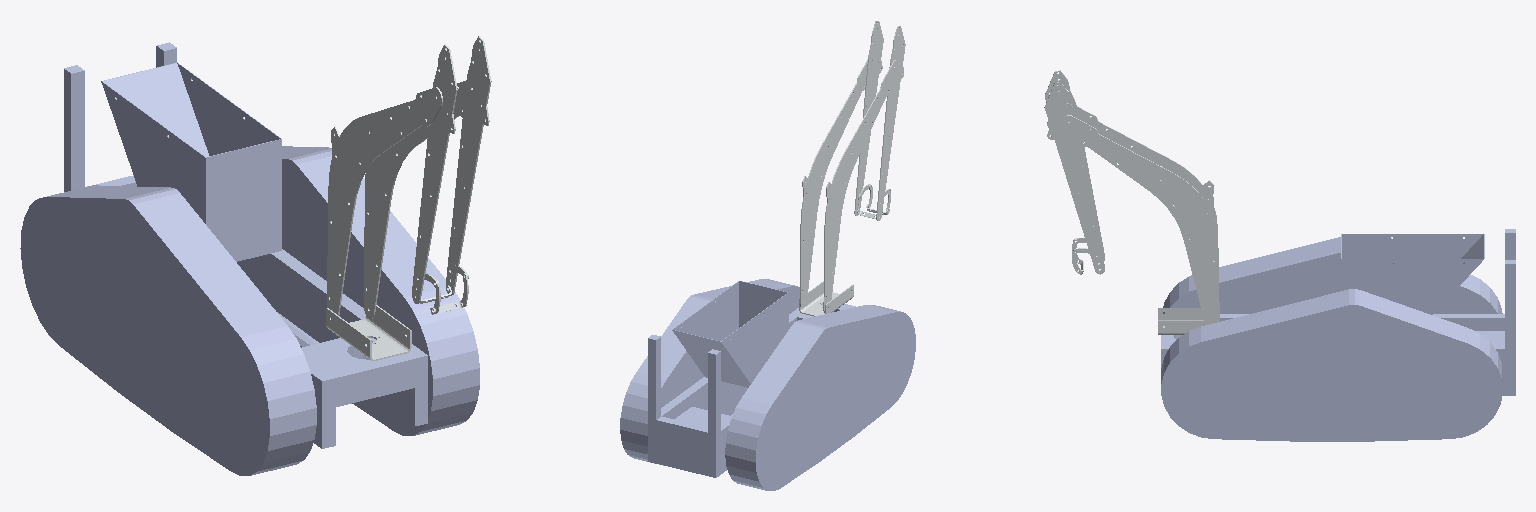
The robot description file, URDF, robot "urdf_files":
<?xml version="1.0" encoding="utf-8"?>
<!-- This URDF was automatically created by SolidWorks to URDF Exporter! Originally created by [author] ([email redacted]) 
     Commit Version: 1.5.1-0-g916b5db  Build Version: 1.5.7152.31018
     For more information, please see http://wiki.ros.org/sw_urdf_exporter -->
<robot
  name="urdf_files">
  <link
    name="base_link">
    <inertial>
      <origin
        xyz="-0.000245405735387999 0.176708927673057 0.00200662816430458"
        rpy="0 0 0" />
      <mass
        value="73.1987225940831" />
      <inertia
        ixx="5.44844381853453"
        ixy="0.000530588416338094"
        ixz="0.00684956990429821"
        iyy="4.94620833738639"
        iyz="0.0418907255499782"
        izz="0.794151271490352" />
    </inertial>
    <visual>
      <origin
        xyz="0 0 0"
        rpy="0 0 0" />
      <geometry>
        <mesh
          filename="package://urdf_files/meshes/base_link.STL" />
      </geometry>
      <material
        name="">
        <color
          rgba="0.792156862745098 0.819607843137255 0.933333333333333 1" />
      </material>
    </visual>
    <collision>
      <origin
        xyz="0 0 0"
        rpy="0 0 0" />
      <geometry>
        <mesh
          filename="package://urdf_files/meshes/base_link.STL" />
      </geometry>
    </collision>
  </link>
  <link
    name="Turntable_Link">
    <inertial>
      <origin
        xyz="3.91763135820788E-09 0.205567132192906 -0.00190110285770567"
        rpy="0 0 0" />
      <mass
        value="0.227999436482662" />
      <inertia
        ixx="0.000570763969480878"
        ixy="1.48699454009952E-11"
        ixz="2.69155197840914E-12"
        iyy="0.000802639067555957"
        iyz="5.46441695495813E-08"
        izz="0.000323934062677162" />
    </inertial>
    <visual>
      <origin
        xyz="0 0 0"
        rpy="0 0 0" />
      <geometry>
        <mesh
          filename="package://urdf_files/meshes/Turntable_Link.STL" />
      </geometry>
      <material
        name="">
        <color
          rgba="0.898039215686275 0.917647058823529 0.929411764705882 1" />
      </material>
    </visual>
    <collision>
      <origin
        xyz="0 0 0"
        rpy="0 0 0" />
      <geometry>
        <mesh
          filename="package://urdf_files/meshes/Turntable_Link.STL" />
      </geometry>
    </collision>
  </link>
  <joint
    name="Turntable"
    type="continuous">
    <origin
      xyz="0.029464 -0.40799 0.059056"
      rpy="1.5708 0 3.1416" />
    <parent
      link="base_link" />
    <child
      link="Turntable_Link" />
    <axis
      xyz="0 -1 0" />
  </joint>
  <link
    name="Lower-Arm_Link">
    <inertial>
      <origin
        xyz="0.233061562897836 0.293782293719561 -9.12156950666487E-10"
        rpy="0 0 0" />
      <mass
        value="0.991682751991289" />
      <inertia
        ixx="0.0085625561640718"
        ixy="-0.0130932756356974"
        ixz="-1.51270777719062E-11"
        iyy="0.0306481453453158"
        iyz="2.88975286149604E-12"
        izz="0.0392090151653679" />
    </inertial>
    <visual>
      <origin
        xyz="0 0 0"
        rpy="0 0 0" />
      <geometry>
        <mesh
          filename="package://urdf_files/meshes/Lower-Arm_Link.STL" />
      </geometry>
      <material
        name="">
        <color
          rgba="0.898039215686275 0.917647058823529 0.929411764705882 1" />
      </material>
    </visual>
    <collision>
      <origin
        xyz="0 0 0"
        rpy="0 0 0" />
      <geometry>
        <mesh
          filename="package://urdf_files/meshes/Lower-Arm_Link.STL" />
      </geometry>
    </collision>
  </link>
  <joint
    name="Lower-Arm"
    type="continuous">
    <origin
      xyz="0 0.18949 0"
      rpy="1.5708 1.0411 1.5708" />
    <parent
      link="Turntable_Link" />
    <child
      link="Lower-Arm_Link" />
    <axis
      xyz="0 0 1" />
  </joint>
  <link
    name="Upper-Arm_Link">
    <inertial>
      <origin
        xyz="-0.389304198489268 0.236602256783372 1.62407178677659E-09"
        rpy="0 0 0" />
      <mass
        value="0.537973764882104" />
      <inertia
        ixx="0.000176359531021174"
        ixy="0.000243676618961583"
        ixz="1.37699254869698E-11"
        iyy="0.012563907734834"
        iyz="5.41325045272918E-12"
        izz="0.012739343200944" />
    </inertial>
    <visual>
      <origin
        xyz="0 0 0"
        rpy="0 0 0" />
      <geometry>
        <mesh
          filename="package://urdf_files/meshes/Upper-Arm_Link.STL" />
      </geometry>
      <material
        name="">
        <color
          rgba="0.898039215686275 0.917647058823529 0.929411764705882 1" />
      </material>
    </visual>
    <collision>
      <origin
        xyz="0 0 0"
        rpy="0 0 0" />
      <geometry>
        <mesh
          filename="package://urdf_files/meshes/Upper-Arm_Link.STL" />
      </geometry>
    </collision>
  </link>
  <joint
    name="Upper-Arm"
    type="continuous">
    <origin
      xyz="0.084492 0.14432 0"
      rpy="0 0 -2.3039" />
    <parent
      link="Lower-Arm_Link" />
    <child
      link="Upper-Arm_Link" />
    <axis
      xyz="0 0 1" />
  </joint>
  <link
    name="Scoop_Link">
    <inertial>
      <origin
        xyz="0.219598152218763 -0.182686439253031 -1.86898274634473E-11"
        rpy="0 0 0" />
      <mass
        value="0.201108630026289" />
      <inertia
        ixx="0.000208232213351491"
        ixy="-7.29191619926531E-05"
        ixz="5.39582740208427E-18"
        iyy="0.000293811680022154"
        iyz="3.03202611839885E-18"
        izz="0.000367984985857797" />
    </inertial>
    <visual>
      <origin
        xyz="0 0 0"
        rpy="0 0 0" />
      <geometry>
        <mesh
          filename="package://urdf_files/meshes/Scoop_Link.STL" />
      </geometry>
      <material
        name="">
        <color
          rgba="0.894117647058823 0.913725490196078 0.929411764705882 1" />
      </material>
    </visual>
    <collision>
      <origin
        xyz="0 0 0"
        rpy="0 0 0" />
      <geometry>
        <mesh
          filename="package://urdf_files/meshes/Scoop_Link.STL" />
      </geometry>
    </collision>
  </link>
  <joint
    name="Scoop"
    type="continuous">
    <origin
      xyz="-0.092545 -0.019096 0"
      rpy="0 0 1.9904" />
    <parent
      link="Upper-Arm_Link" />
    <child
      link="Scoop_Link" />
    <axis
      xyz="0 0 1" />
  </joint>
</robot>

--- What the picture shows (computed from the rendered views, not written in the file) ---
3 views of the same robot in one strip: view 1: azimuth 30°, elevation 25°; view 2: azimuth 150°, elevation 25°; view 3: azimuth 270°, elevation 25° (orthographic).
Robot: urdf_files — 5 links, 4 joints (4 continuous); root link base_link; default pose: all joints at 0.
Links seen in each view (by area): view 1: base_link, Lower-Arm_Link, Upper-Arm_Link, Turntable_Link, Scoop_Link; view 2: base_link, Lower-Arm_Link, Upper-Arm_Link, Turntable_Link; view 3: base_link, Lower-Arm_Link, Upper-Arm_Link, Turntable_Link.
Boxes of the visible links, box(x1,y1,x2,y2) form: base_link: box(20, 42, 479, 475); Lower-Arm_Link: box(327, 81, 465, 318); Upper-Arm_Link: box(412, 36, 491, 303); Turntable_Link: box(326, 305, 411, 360); Scoop_Link: box(420, 265, 468, 314); base_link: box(620, 279, 915, 490); Lower-Arm_Link: box(800, 59, 897, 312); Upper-Arm_Link: box(854, 21, 905, 220); Turntable_Link: box(799, 281, 853, 316); base_link: box(1161, 229, 1515, 441); Lower-Arm_Link: box(1062, 106, 1219, 321); Upper-Arm_Link: box(1044, 70, 1104, 274); Turntable_Link: box(1158, 308, 1218, 334).
Bounding box of the posed robot: 0.4538 × 1.28 × 1.01 m (x, y, z).
5 mesh visuals loaded from 5 distinct referenced files (5 binary STL).